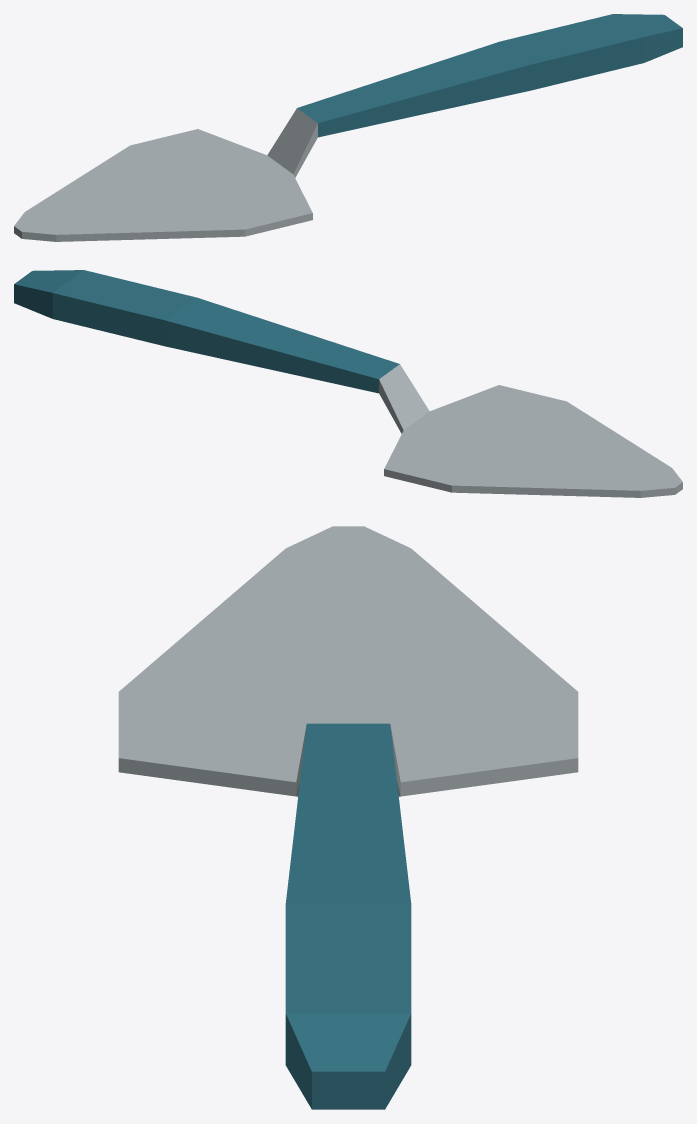
3 renders of one model, top to bottom at view 1: azimuth 30°, elevation 25°; view 2: azimuth 150°, elevation 25°; view 3: azimuth 270°, elevation 25°, orthographic. The views are drawn at different scales.
Parts seen in each view (by area): view 1: ContinuousTriangleBladeOffsetNeckAndRaisedGrip; view 2: ContinuousTriangleBladeOffsetNeckAndRaisedGrip; view 3: ContinuousTriangleBladeOffsetNeckAndRaisedGrip.
Part boxes in pixels (x1,y1,x2,y2): ContinuousTriangleBladeOffsetNeckAndRaisedGrip: (14, 14, 682, 241); ContinuousTriangleBladeOffsetNeckAndRaisedGrip: (14, 270, 682, 497); ContinuousTriangleBladeOffsetNeckAndRaisedGrip: (118, 526, 578, 1109).
Size of the model in its own units: 0.29 by 0.026 by 0.088.
